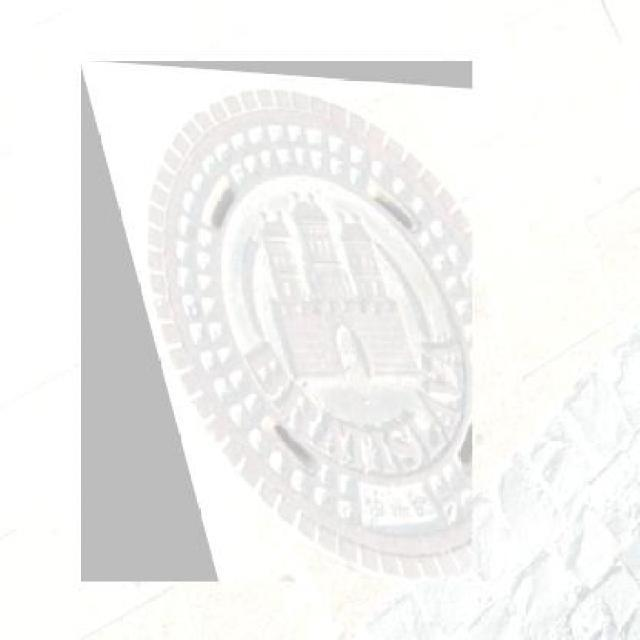Manhole: (75, 55, 468, 578)
